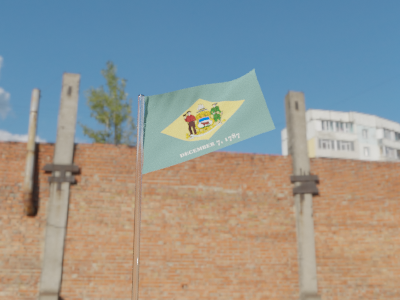Delaware flag: (140, 68, 274, 176)
